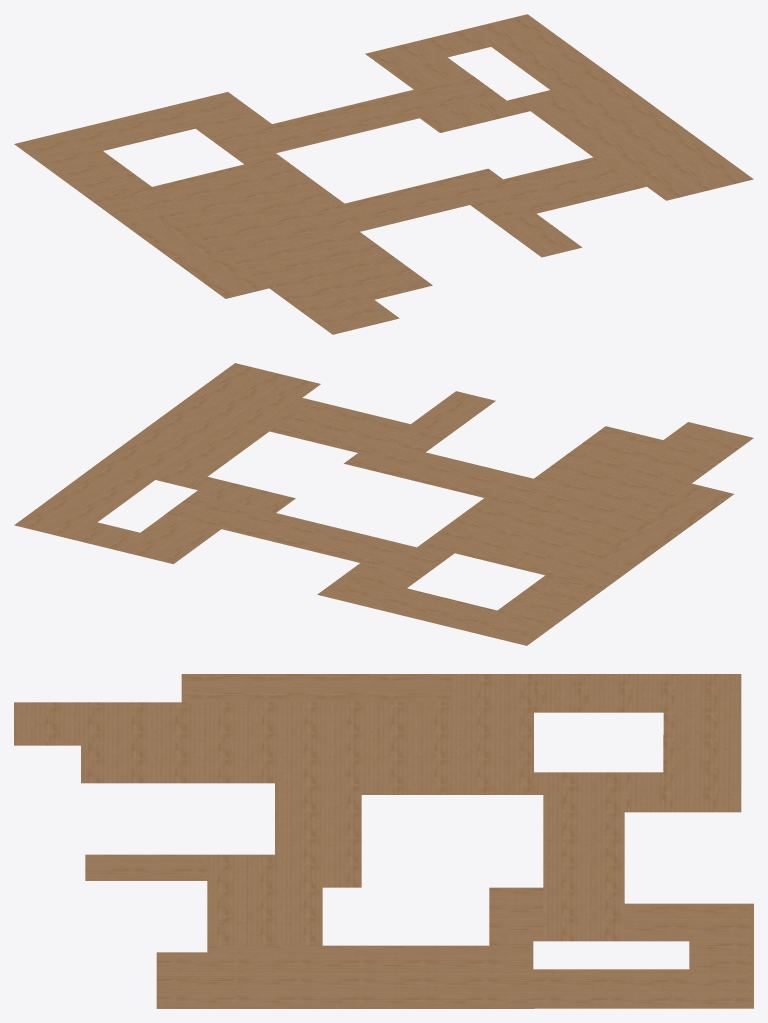
The model's file is Floor.fbx.
The picture shows the model from 3 angles, top to bottom: view 1: azimuth 30°, elevation 25°; view 2: azimuth 150°, elevation 25°; view 3: azimuth 270°, elevation 25°; orthographic projection. The views are drawn at different scales.
Visible parts, largest first — view 1: floor01; view 2: floor01; view 3: floor01.
Boxes of the visible parts, box(x1,y1,x2,y2) form: floor01: box(14, 14, 753, 334); floor01: box(14, 363, 753, 645); floor01: box(14, 674, 753, 1008).
Size of the model in its own units: 3067 by 0.000809 by 2866.
1 material, 1 textured.
